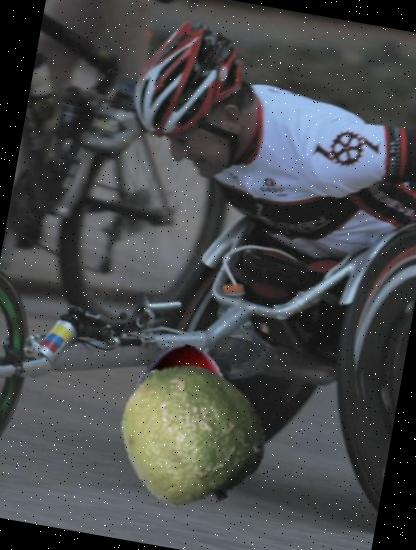Limes: (106, 348, 276, 519)
Tamarillo: (102, 334, 258, 488)
